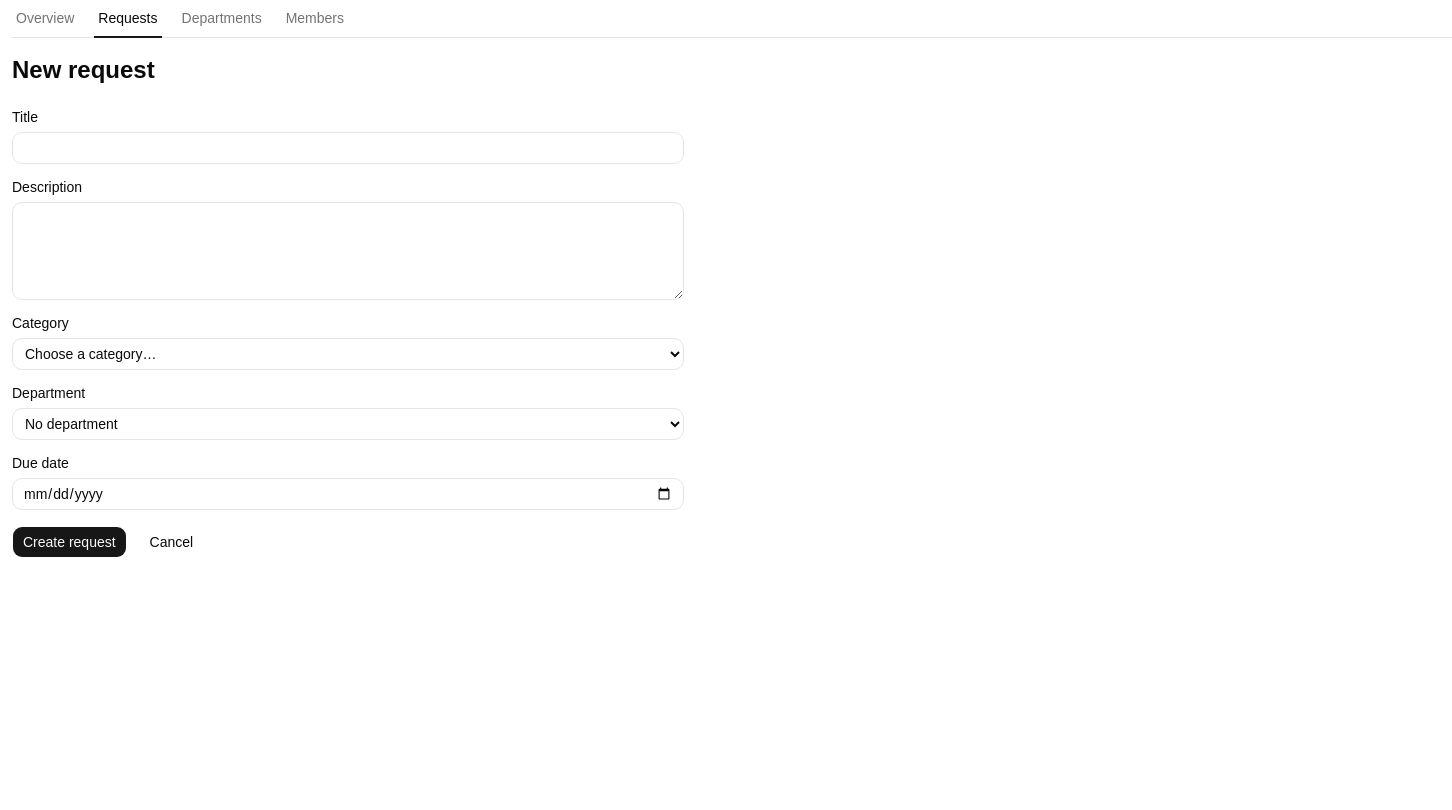
it: RequestFormPage (new) › validates in the browser and sends nothing
Click the button "Create request".
click(69, 542)  # box [12,526,127,558]
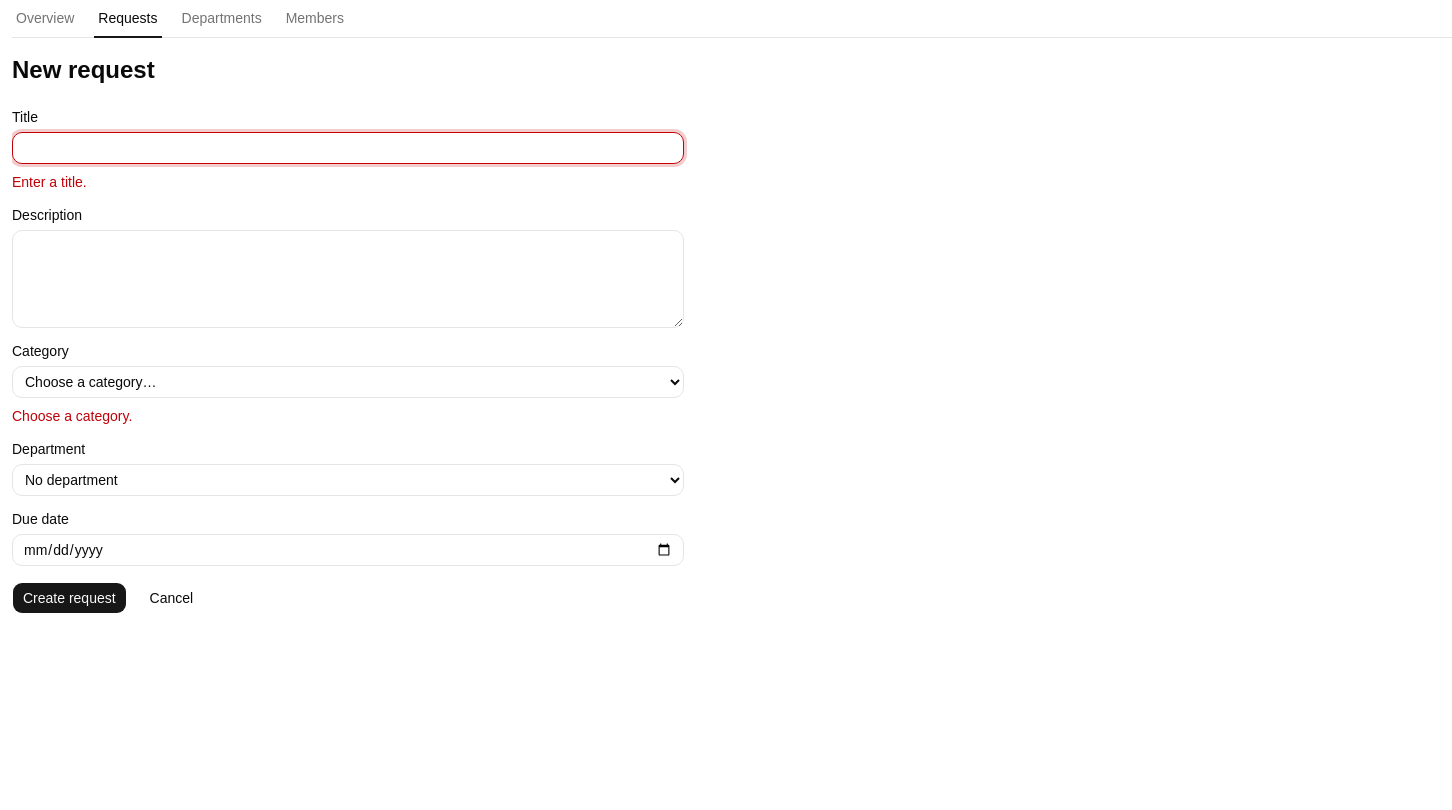
Now the text "Enter a title." is shown, box [12,174,87,190]
Now the text "Choose a category." is shown, box [12,408,132,424]
